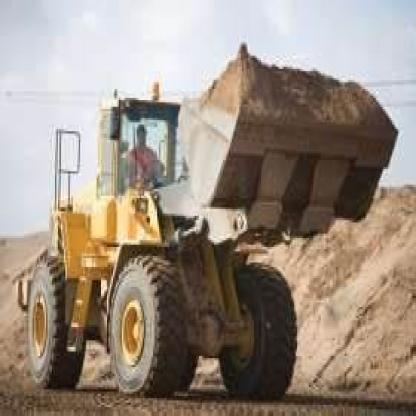bull_dozer/loader/grader: (12, 47, 401, 400)
